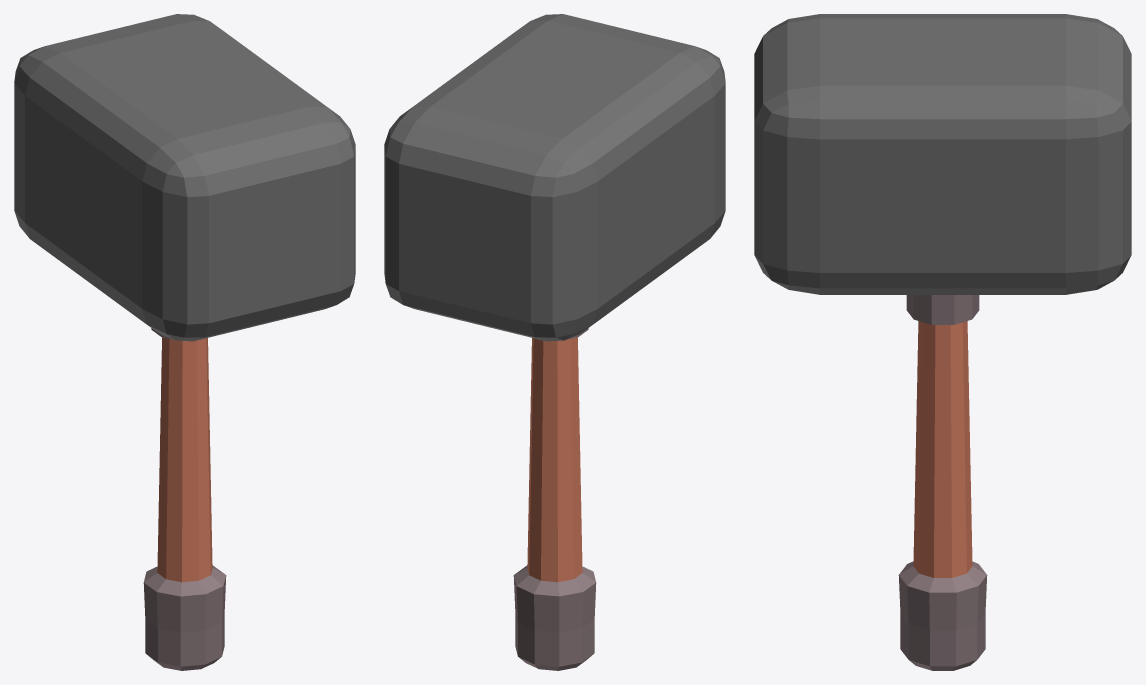
The model's file is Hammer.glb.
The picture shows the model from 3 angles, left to right: view 1: azimuth 30°, elevation 25°; view 2: azimuth 150°, elevation 25°; view 3: azimuth 270°, elevation 25°; orthographic projection. The views are drawn at different scales.
Parts seen in each view (by area): view 1: Head, Handle; view 2: Head, Handle; view 3: Head, Handle.
Part boxes in pixels (x1,y1,x2,y2): Head: (14, 14, 355, 341); Handle: (143, 328, 226, 670); Head: (384, 14, 725, 341); Handle: (513, 328, 596, 670); Head: (754, 14, 1131, 294); Handle: (898, 295, 987, 670).
Size of the model in its own units: 0.6702 by 1.83 by 1.03.
Materials: 3 (2 with a texture image).
